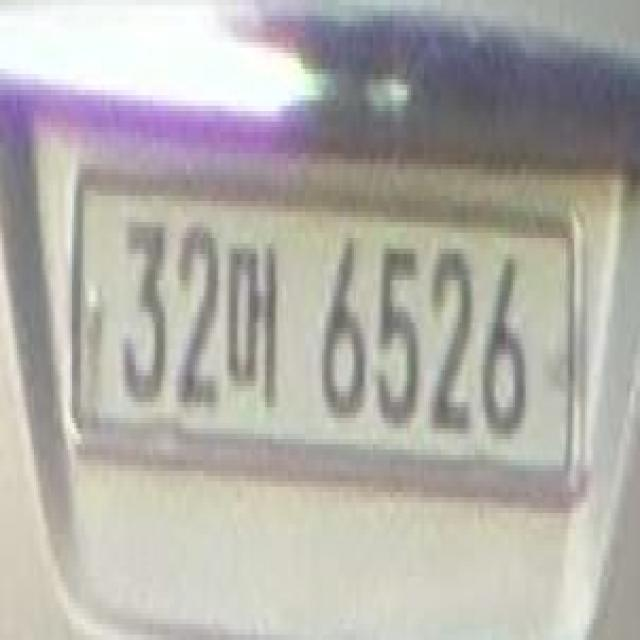2: (426, 249, 475, 439), (178, 217, 223, 412)
3: (125, 212, 172, 412)
5: (375, 243, 422, 434)
6: (481, 254, 526, 439), (320, 243, 367, 418)
license_plate: (74, 174, 579, 486)
meo: (227, 238, 280, 407)
